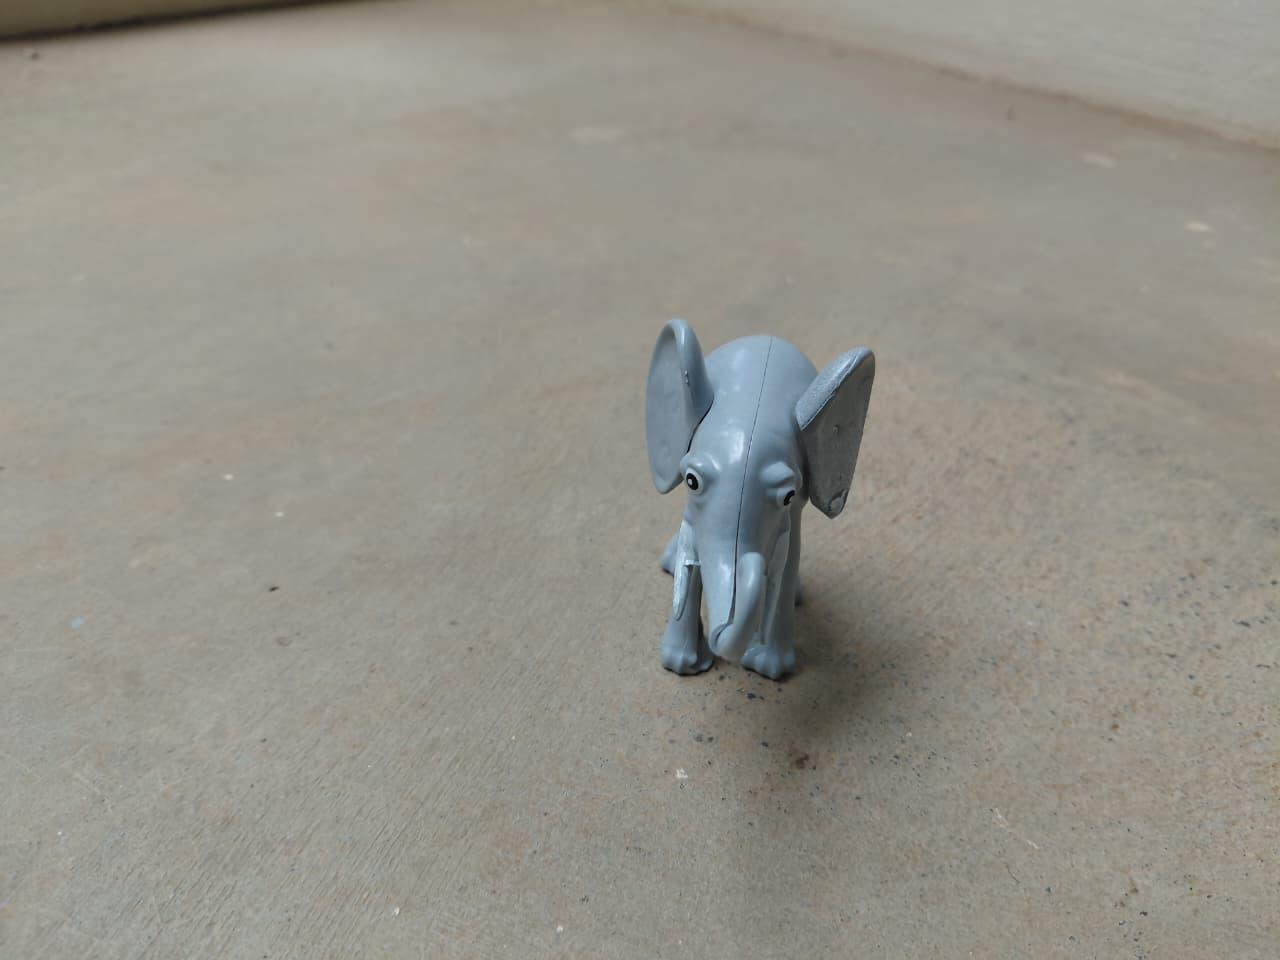elephant: (626, 292, 885, 708)
